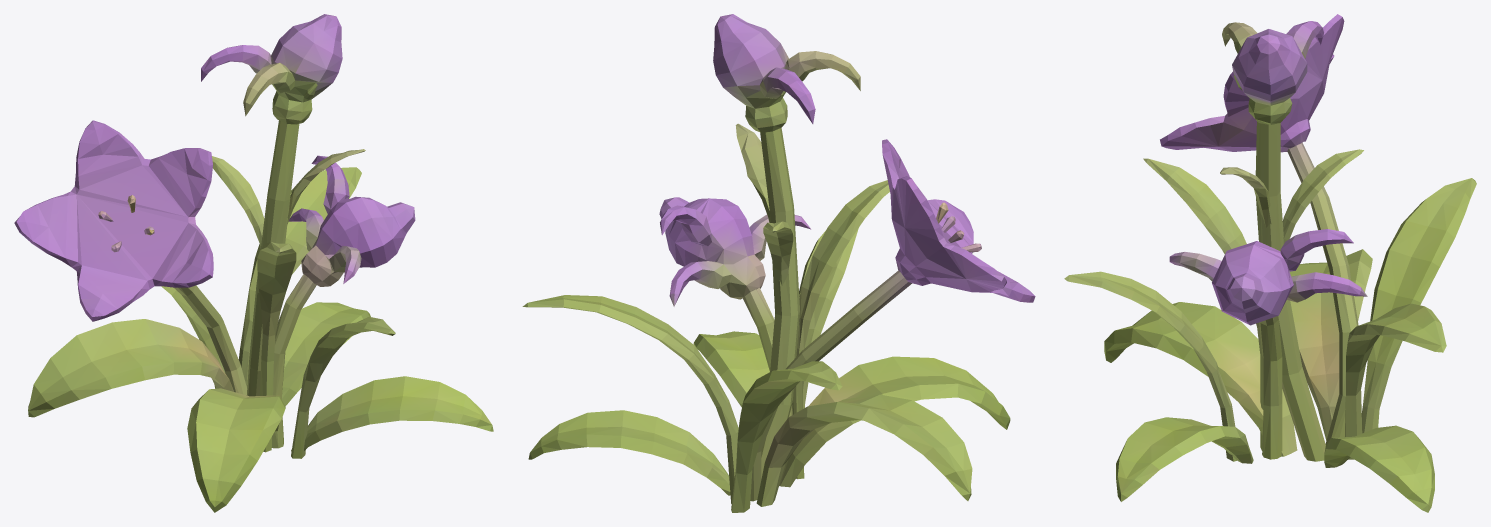
File: bellflower.glb
3 views of the same model, side by side, from view 1: azimuth 30°, elevation 25°; view 2: azimuth 150°, elevation 25°; view 3: azimuth 270°, elevation 25° (orthographic). The views are drawn at different scales.
Visible parts, largest first — view 1: geometry_0; view 2: geometry_0; view 3: geometry_0.
Part boxes in pixels (left/top/right/bottom): geometry_0: left=14, top=14, right=493, bottom=512; geometry_0: left=522, top=14, right=1035, bottom=512; geometry_0: left=1064, top=14, right=1476, bottom=512.
Bounding box in the file's own units: 0.1436 × 0.1436 × 0.1201.
